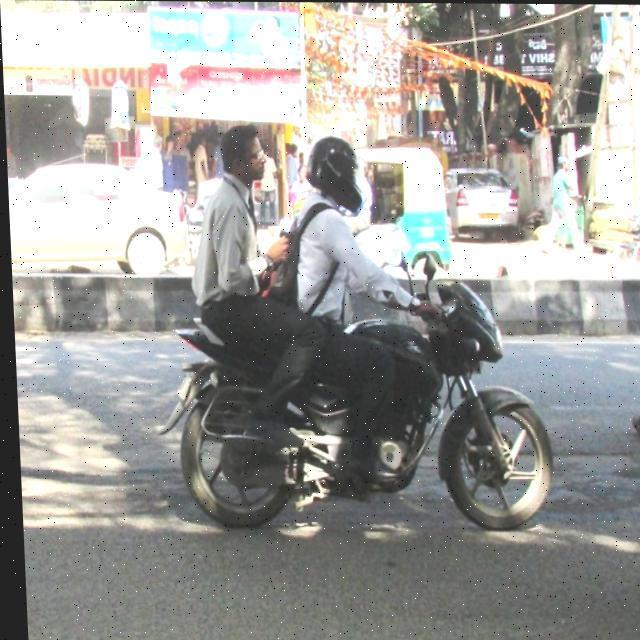Helmet: (302, 136, 367, 218)
